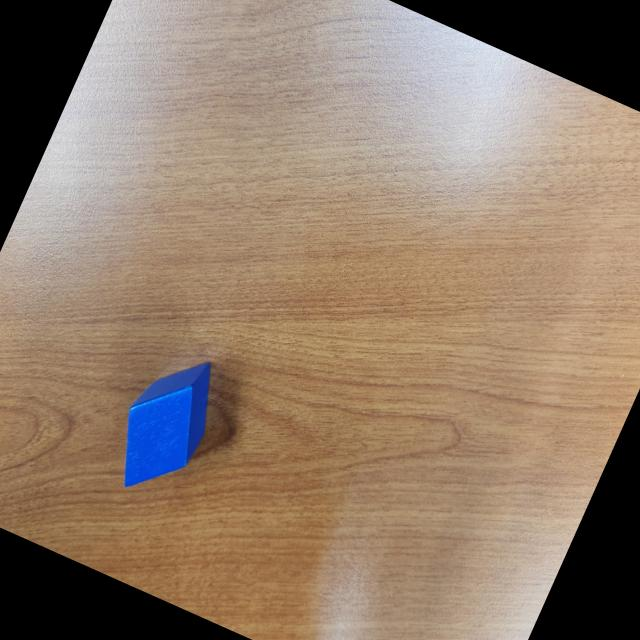blue: (99, 340, 233, 508)
